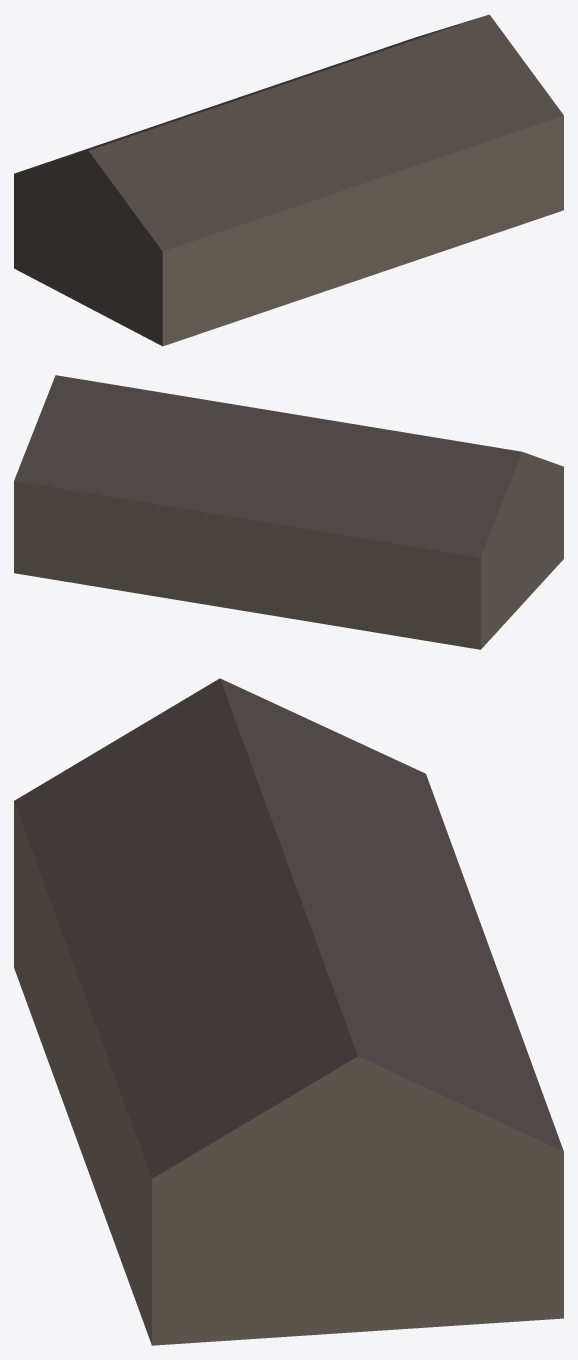
The picture shows the model from 3 angles, top to bottom: view 1: azimuth 30°, elevation 25°; view 2: azimuth 150°, elevation 25°; view 3: azimuth 270°, elevation 25°; orthographic projection. The views are drawn at different scales.
Parts seen in each view (by area): view 1: HP-w858807476; view 2: HP-w858807476; view 3: HP-w858807476.
Boxes of the visible parts, box(x1,y1,x2,y2) form: HP-w858807476: box(14, 14, 563, 346); HP-w858807476: box(14, 375, 563, 649); HP-w858807476: box(14, 678, 563, 1345).
Size of the model in its own units: 15.64 by 4.96 by 8.97.
